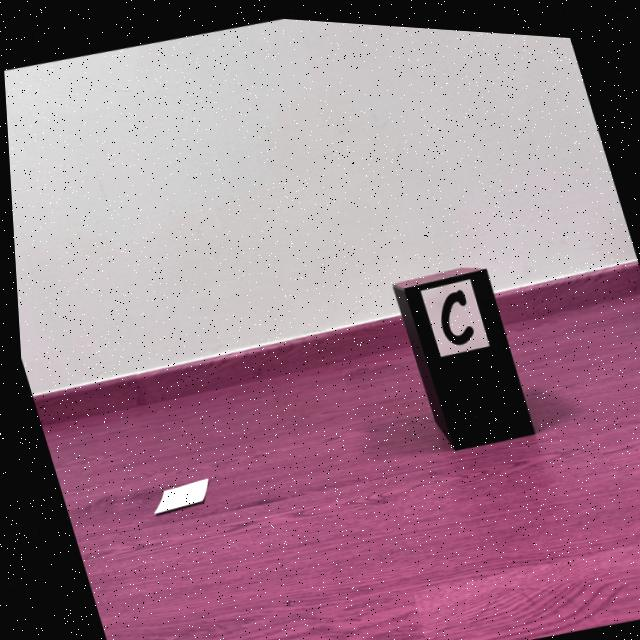C: (437, 283, 470, 339)
